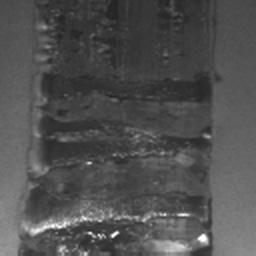Slag inclusion: (15, 0, 224, 256)
